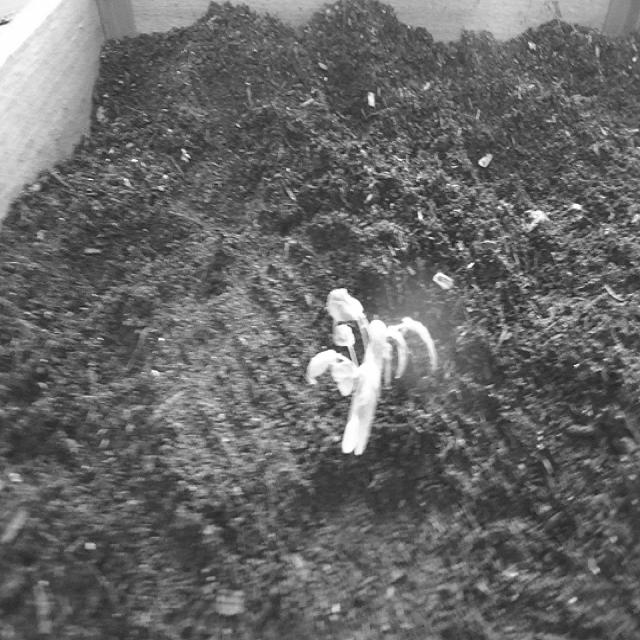Healthy: (303, 268, 448, 467)
